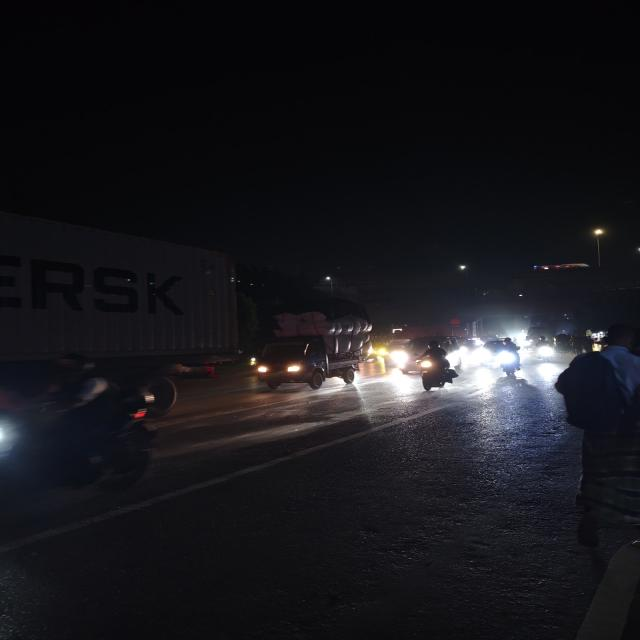motorcycle: (402, 340, 462, 392), (494, 338, 526, 383), (535, 334, 556, 367)
pickup_van: (248, 328, 369, 394)
truck: (8, 211, 237, 377)
